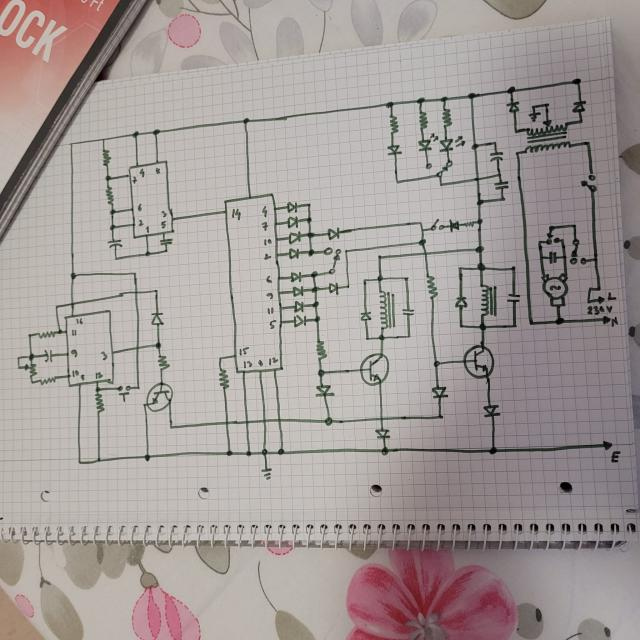capacitor: (400, 305, 416, 318), (488, 150, 504, 162), (493, 178, 509, 190), (506, 292, 520, 304), (106, 239, 122, 249), (42, 348, 52, 363), (158, 238, 174, 246), (548, 250, 557, 264)
crossover: (242, 417, 250, 425), (274, 417, 282, 424), (132, 289, 139, 296), (474, 176, 481, 183), (223, 419, 230, 426), (378, 416, 384, 422), (261, 418, 267, 424), (69, 300, 75, 306), (134, 344, 140, 350), (422, 250, 427, 255)
diode: (414, 132, 438, 152), (440, 135, 465, 153), (429, 384, 449, 400), (313, 383, 334, 398), (482, 404, 502, 418), (447, 216, 462, 234), (149, 311, 165, 327), (385, 143, 403, 157), (292, 313, 307, 329), (326, 224, 341, 240), (453, 295, 468, 310), (571, 99, 587, 113), (374, 428, 392, 440), (505, 100, 521, 113), (358, 308, 372, 322), (288, 230, 302, 244), (286, 215, 299, 230), (327, 281, 339, 296), (287, 247, 300, 260), (291, 284, 303, 297), (293, 300, 305, 313), (290, 271, 302, 283), (286, 201, 296, 213)
ground: (259, 466, 273, 481), (527, 112, 541, 122)
inductor: (378, 290, 396, 329), (479, 283, 498, 317)
junction: (323, 416, 334, 426), (572, 76, 582, 86), (467, 91, 477, 101), (310, 284, 320, 294), (554, 316, 564, 325), (435, 411, 444, 421), (260, 446, 269, 456), (474, 245, 484, 254), (583, 138, 592, 148), (470, 141, 480, 150), (416, 96, 426, 105), (475, 197, 484, 207), (477, 262, 486, 272), (488, 446, 498, 455), (311, 300, 320, 309), (241, 116, 250, 125), (153, 341, 162, 350), (377, 333, 386, 342), (276, 447, 285, 456), (478, 322, 487, 331), (457, 321, 466, 330), (313, 314, 321, 324), (306, 247, 314, 257), (417, 238, 427, 246), (506, 86, 516, 94), (512, 126, 520, 135), (305, 215, 313, 224), (376, 274, 384, 283), (404, 332, 413, 340), (151, 128, 160, 136), (510, 321, 519, 329), (576, 118, 585, 126), (381, 446, 389, 455), (439, 95, 448, 103), (310, 270, 318, 278), (69, 272, 77, 280), (364, 334, 372, 342), (108, 223, 116, 231), (376, 253, 384, 261), (509, 264, 517, 272), (108, 208, 116, 216), (513, 148, 521, 156), (132, 130, 140, 138), (432, 360, 440, 368), (385, 101, 394, 108), (402, 275, 410, 282), (416, 220, 424, 227), (457, 265, 464, 273), (476, 218, 484, 225), (167, 423, 174, 430), (394, 178, 401, 185), (216, 355, 223, 362), (53, 303, 60, 310), (306, 200, 312, 208), (152, 288, 160, 294), (130, 270, 138, 276), (592, 255, 598, 263), (306, 232, 314, 238), (362, 277, 368, 284), (144, 250, 151, 256), (570, 223, 577, 229), (76, 458, 83, 464), (26, 332, 33, 338), (528, 319, 534, 326), (500, 195, 506, 202), (318, 369, 324, 376), (226, 449, 232, 456), (105, 175, 112, 181), (144, 454, 150, 461), (68, 141, 74, 147), (438, 181, 444, 187), (343, 248, 349, 254), (345, 282, 351, 288), (245, 451, 251, 457), (28, 354, 33, 361), (544, 102, 549, 108), (530, 104, 536, 109), (538, 254, 544, 259), (586, 298, 591, 304), (492, 140, 497, 146), (94, 387, 100, 392), (96, 457, 102, 462), (561, 254, 566, 259), (596, 286, 601, 291), (136, 384, 140, 390), (537, 240, 542, 244), (588, 286, 592, 291), (497, 172, 501, 177), (163, 248, 168, 252), (16, 356, 21, 360), (30, 379, 34, 384), (421, 228, 425, 233), (560, 238, 564, 242), (114, 256, 118, 260), (142, 402, 146, 406), (17, 364, 21, 368)
resistor: (424, 272, 438, 300), (439, 106, 454, 130), (314, 338, 328, 361), (217, 368, 230, 389), (156, 353, 170, 371), (94, 392, 105, 414), (22, 362, 38, 377), (104, 185, 115, 205), (100, 148, 112, 166), (417, 111, 428, 130), (388, 114, 398, 134), (40, 375, 57, 385), (463, 218, 474, 228), (37, 332, 51, 339)
switch: (424, 160, 452, 178), (322, 247, 340, 274), (569, 238, 587, 265), (580, 172, 597, 195), (544, 223, 560, 246), (429, 218, 446, 233), (117, 384, 130, 402)
terminal: (602, 438, 613, 450), (602, 314, 610, 326), (597, 294, 605, 304)
text: (585, 304, 612, 314), (611, 449, 621, 464), (230, 207, 241, 220), (262, 236, 273, 247), (606, 290, 616, 302), (260, 220, 270, 232), (239, 345, 249, 356), (268, 318, 278, 329), (266, 305, 276, 316), (264, 274, 274, 284), (610, 316, 618, 328), (261, 205, 269, 217), (69, 348, 78, 358), (69, 328, 79, 337), (242, 359, 252, 368), (269, 357, 278, 367), (100, 350, 108, 360), (159, 219, 167, 229), (266, 291, 274, 300), (264, 252, 272, 261), (160, 209, 168, 218), (139, 168, 146, 178), (71, 369, 79, 377), (154, 167, 161, 176), (94, 371, 103, 378), (75, 317, 84, 324), (137, 219, 144, 227), (132, 175, 138, 184), (258, 358, 264, 367), (137, 203, 142, 213), (144, 226, 150, 234), (80, 372, 86, 380)
transformer: (525, 119, 571, 156)
transistor: (460, 342, 496, 380), (358, 352, 391, 384), (145, 383, 175, 412)
